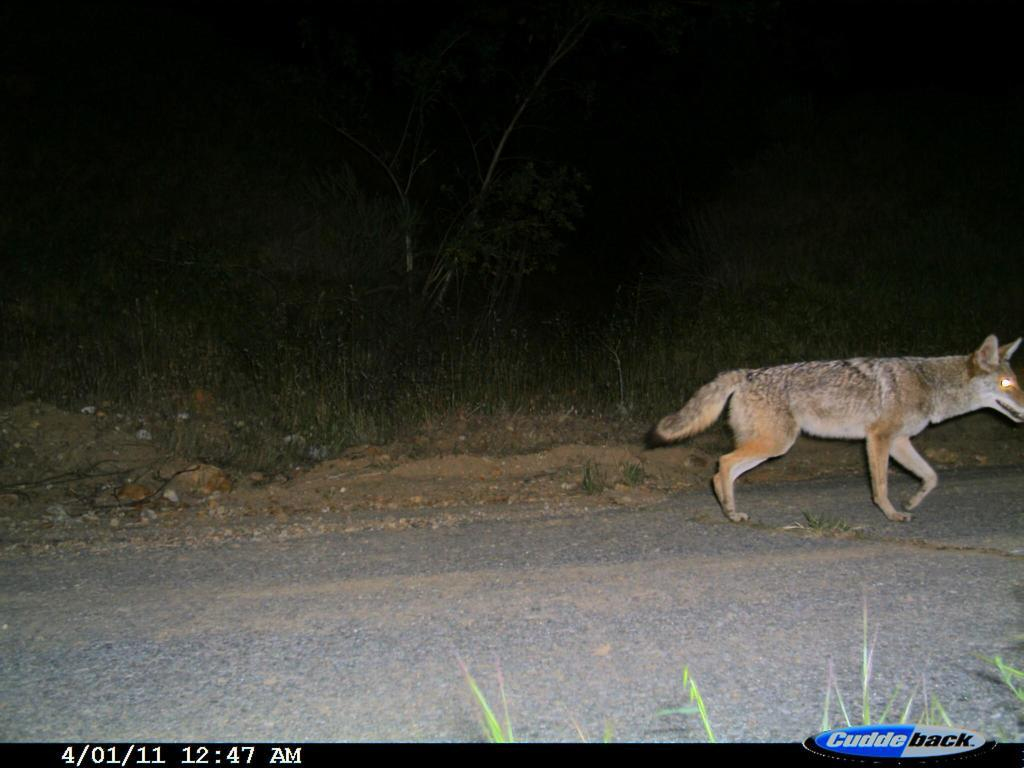coyote: (664, 301, 1023, 566)
